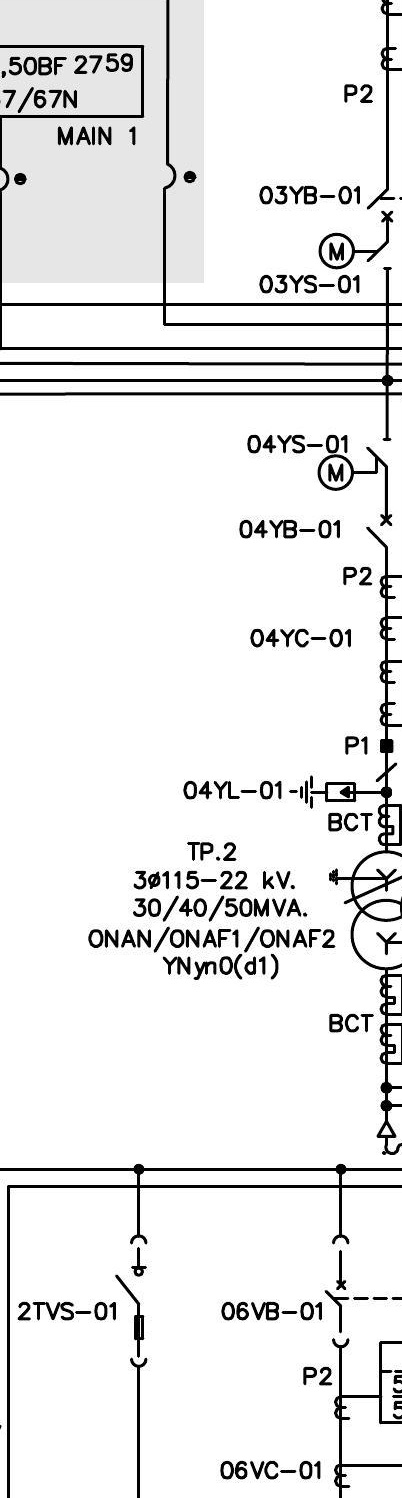115_1way_ds_w_motor: (317, 437, 392, 493), (318, 232, 392, 270)
115_breaker: (365, 513, 393, 549), (366, 188, 394, 223)
115_la: (288, 774, 357, 810)
22_breaker: (324, 1234, 350, 1349)
22_ds: (114, 1234, 149, 1369)
